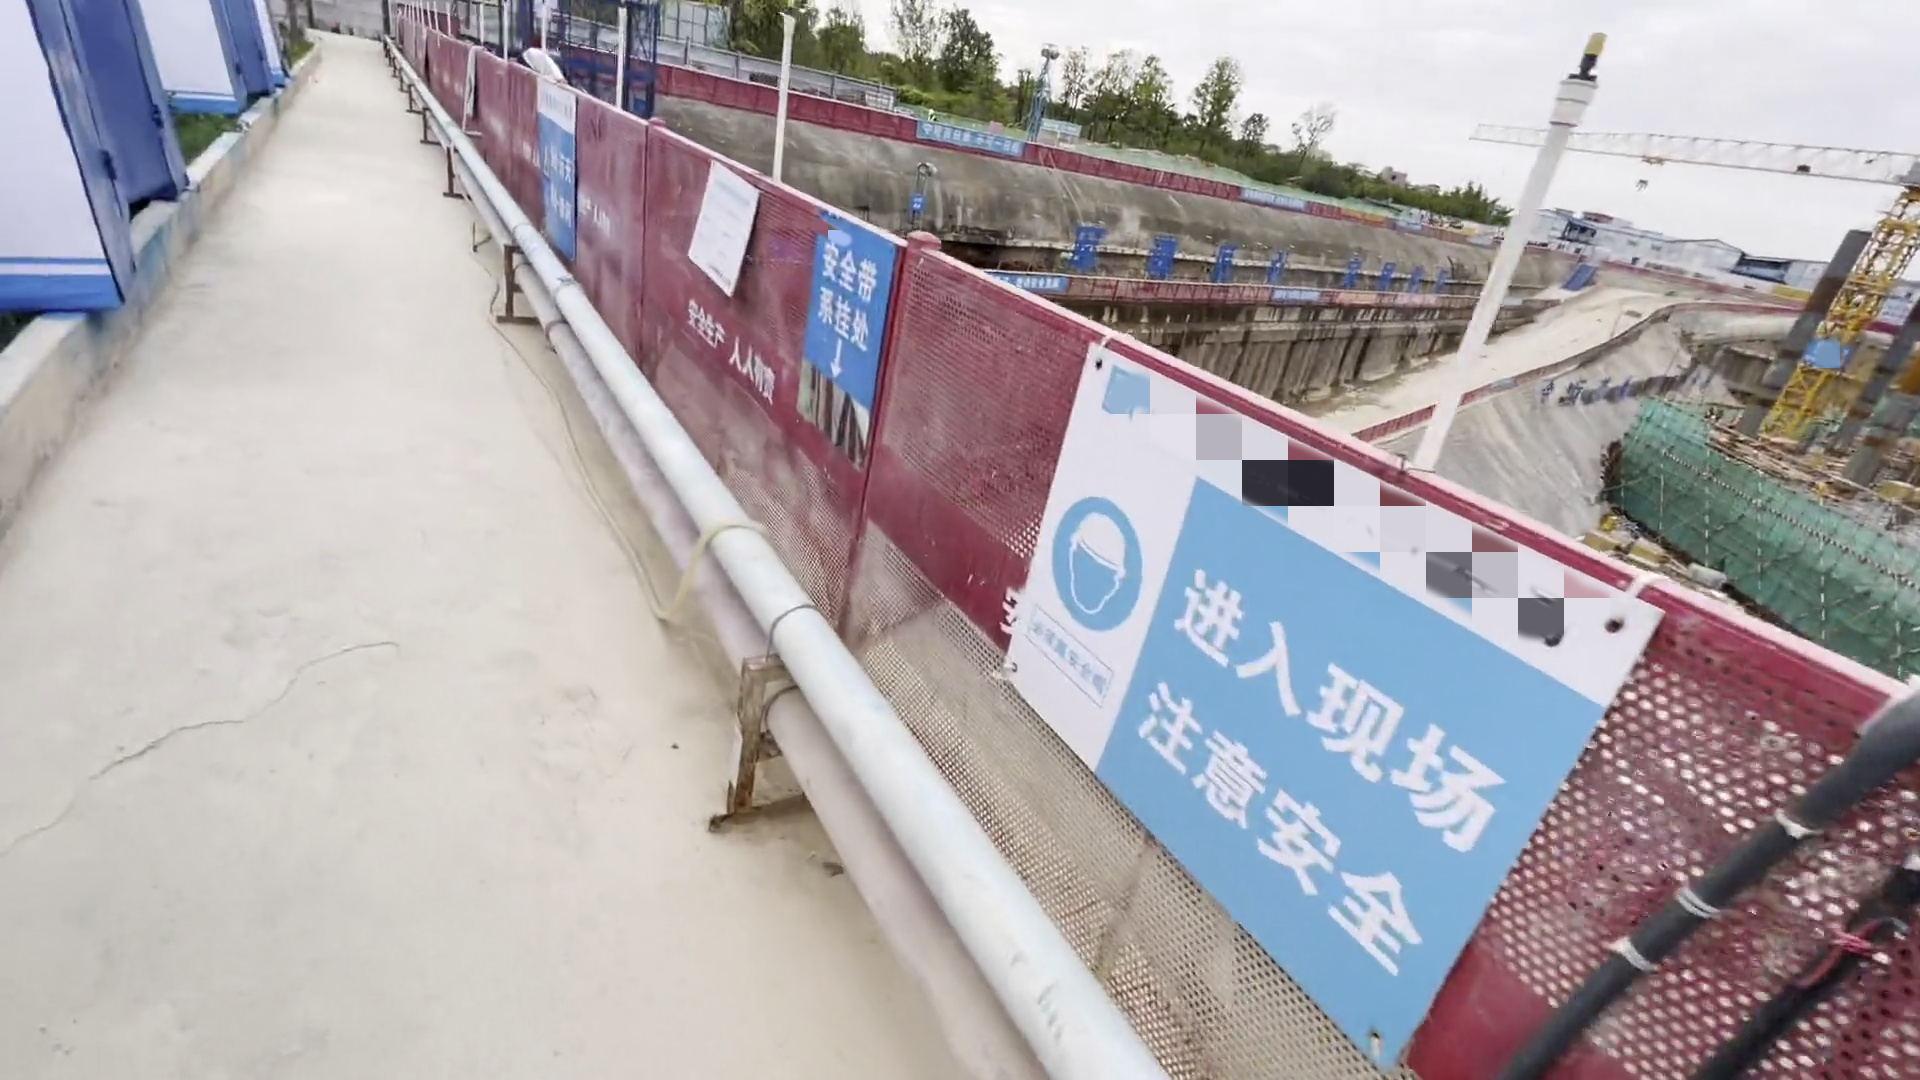fence: (411, 32, 1905, 1071)
slogan: (1007, 324, 1691, 1067)
